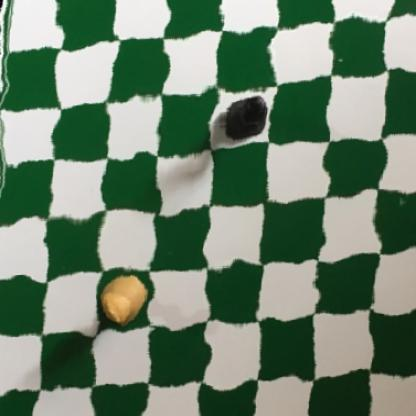black-king: (218, 90, 273, 142)
white-king: (102, 272, 147, 326)
